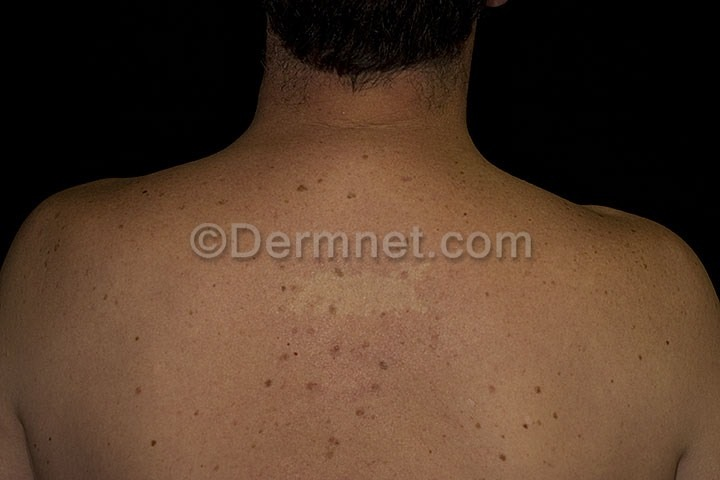Melasma: (264, 266, 444, 480), (461, 348, 587, 480), (256, 149, 425, 219)
